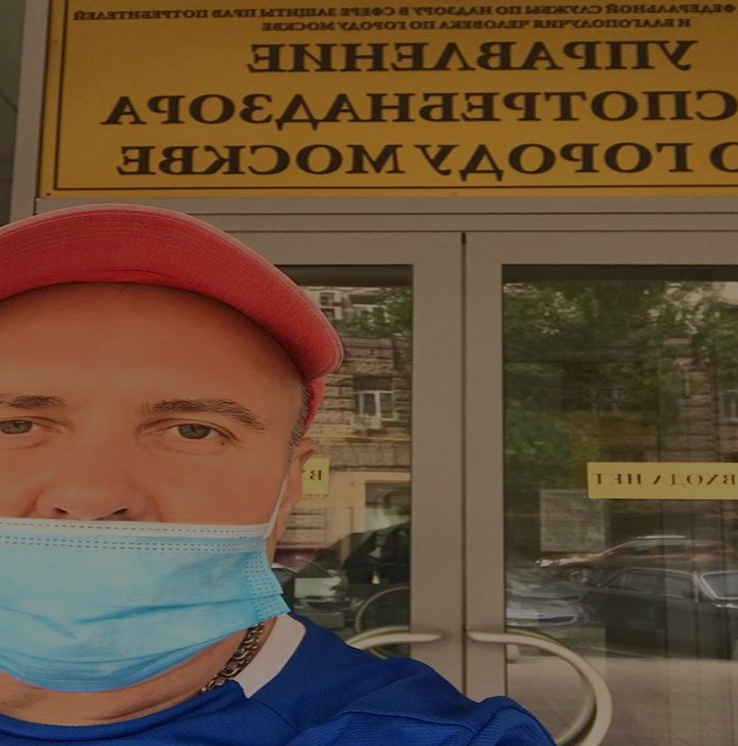mask_weared_incorrect: (1, 240, 313, 683)
